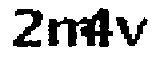2: (6, 3, 44, 51)
A: (79, 2, 115, 49)
n: (46, 15, 80, 53)
v: (115, 12, 151, 50)
